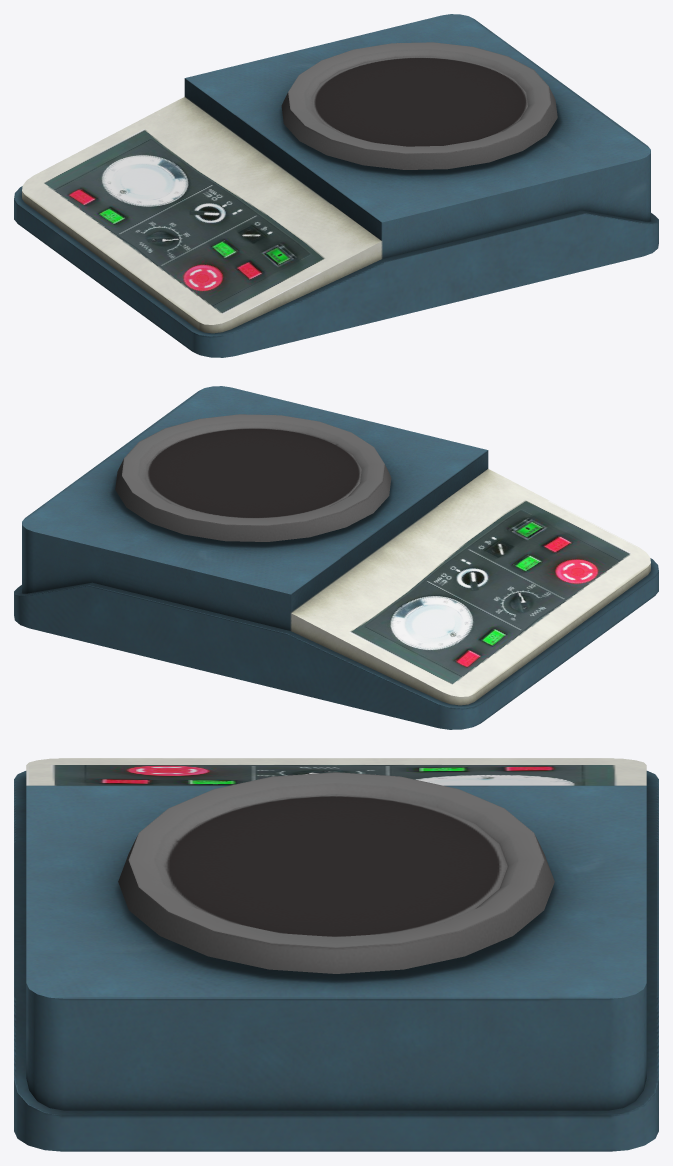
Rendered from ElectronicScale.fbx.
3 renders of one model, top to bottom at view 1: azimuth 30°, elevation 25°; view 2: azimuth 150°, elevation 25°; view 3: azimuth 270°, elevation 25°, orthographic. The views are drawn at different scales.
Visible parts, largest first — view 1: ElectronicScale; view 2: ElectronicScale; view 3: ElectronicScale.
Part boxes in pixels (x1,y1,x2,y2): ElectronicScale: (14,14,658,357); ElectronicScale: (14,386,658,729); ElectronicScale: (14,758,658,1151).
Bounding box in the file's own units: 20.81 × 4.85 × 15.97.
